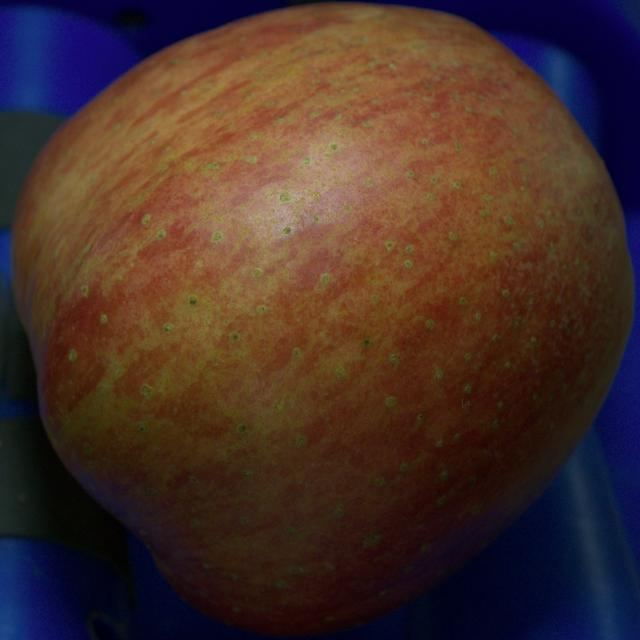apple: (12, 3, 634, 635)
